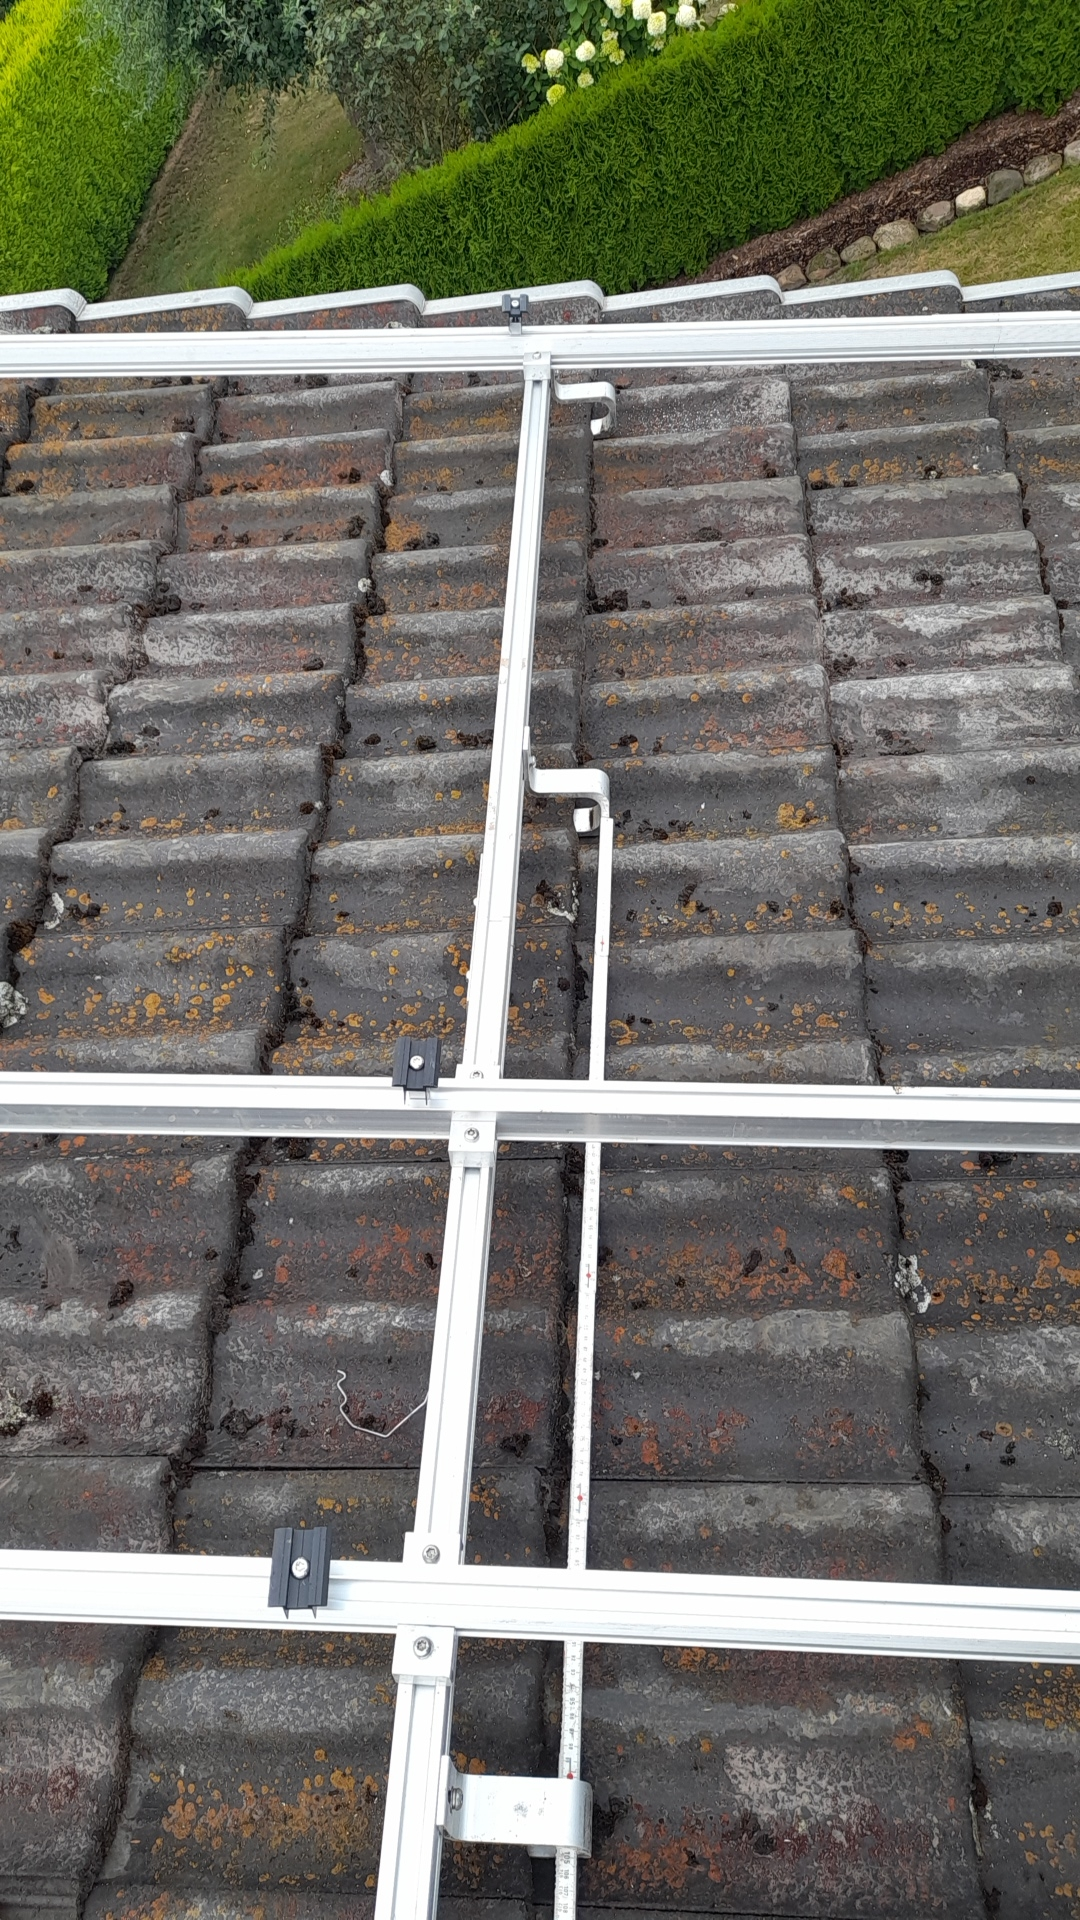hook: (436, 1754, 592, 1859), (522, 725, 611, 836), (550, 363, 616, 436)
